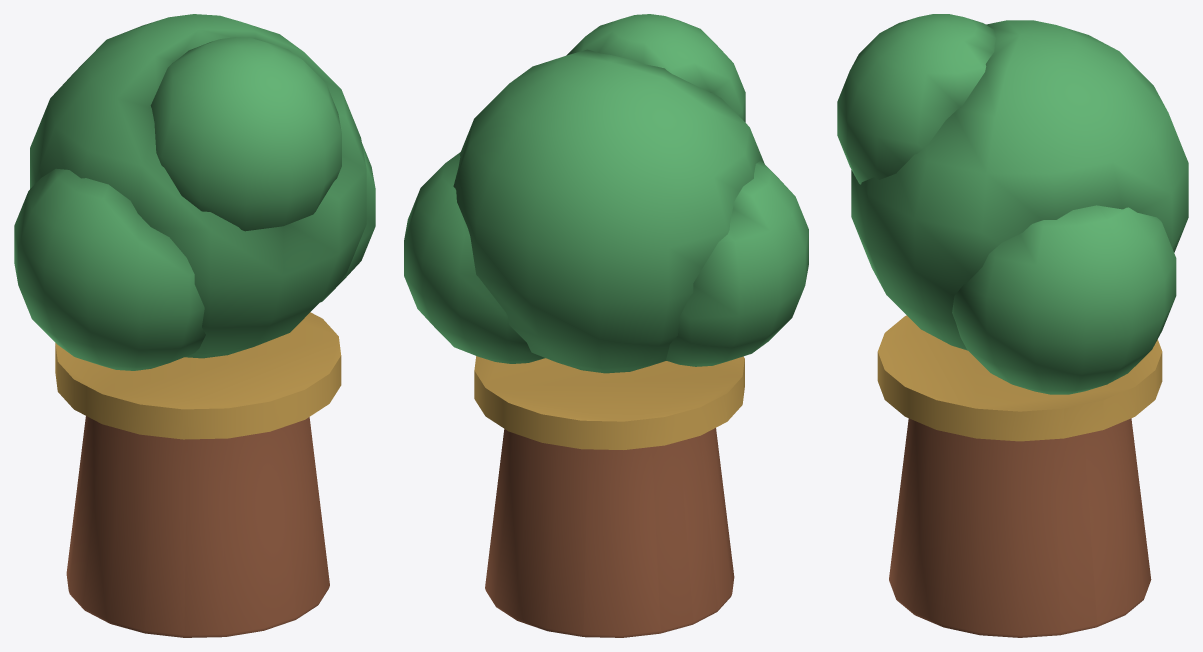
Rendered from plant-floor.glb.
3 renders of one model, left to right at view 1: azimuth 30°, elevation 25°; view 2: azimuth 150°, elevation 25°; view 3: azimuth 270°, elevation 25°, orthographic. The views are drawn at different scales.
Parts seen in each view (by area): view 1: plant-floor; view 2: plant-floor; view 3: plant-floor.
Part boxes in pixels (left/top/right/bottom): plant-floor: left=14, top=14, right=375, bottom=637; plant-floor: left=404, top=14, right=808, bottom=637; plant-floor: left=837, top=14, right=1188, bottom=637.
Size of the model in its own units: 0.8133 by 1.22 by 0.6937.
